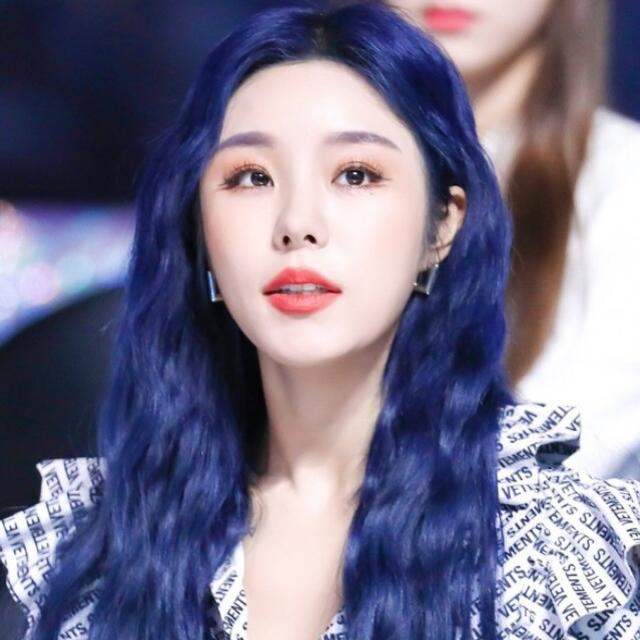Nonhelmet: (163, 9, 486, 380)
